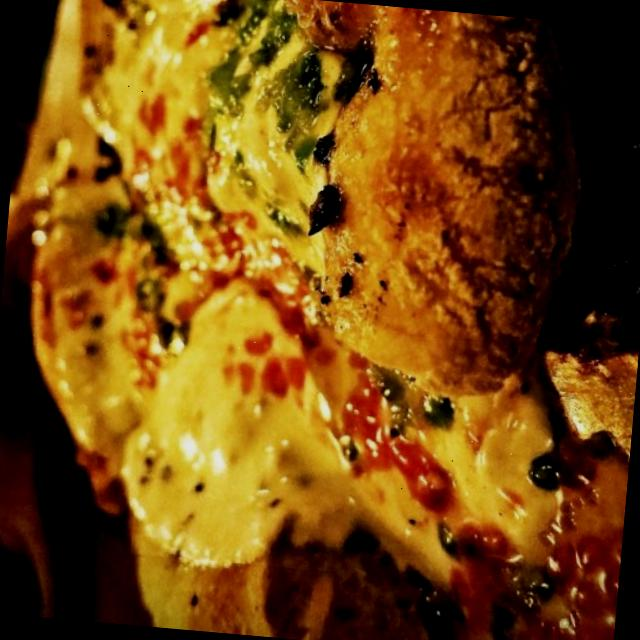basil: (266, 48, 329, 175), (233, 0, 294, 68), (132, 279, 182, 356), (204, 54, 258, 118), (88, 192, 134, 249), (138, 216, 170, 264)
cheese: (130, 312, 563, 588), (70, 18, 347, 358)
pizza: (23, 0, 638, 640)
